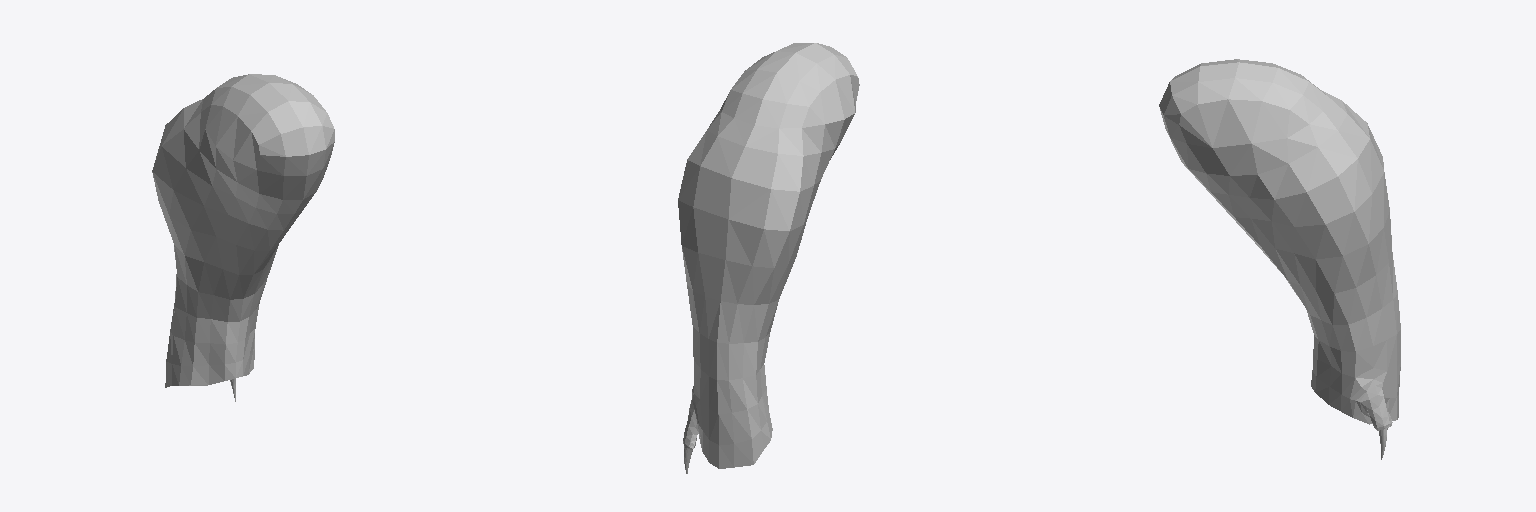
Rendered from pieIzq1.obj.
The picture shows the model from 3 angles: view 1: azimuth 30°, elevation 25°; view 2: azimuth 150°, elevation 25°; view 3: azimuth 270°, elevation 25°; orthographic projection.
Visible parts, largest first — view 1: polySurface30; view 2: polySurface30; view 3: polySurface30.
Boxes of the visible parts, <box> form: polySurface30: <box>152,74,334,401</box>; polySurface30: <box>678,43,859,473</box>; polySurface30: <box>1159,59,1400,459</box>.
Bounding box in the file's own units: 1.49 × 4.28 × 2.47.